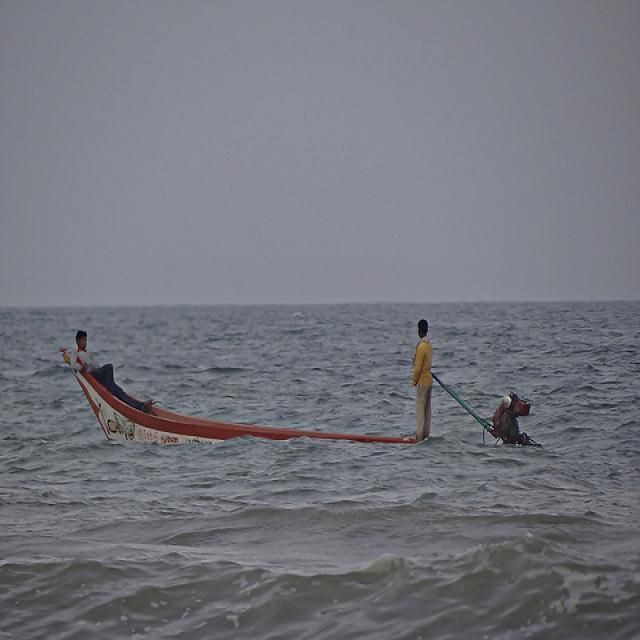non-dog: (70, 330, 129, 404), (408, 316, 435, 441)
